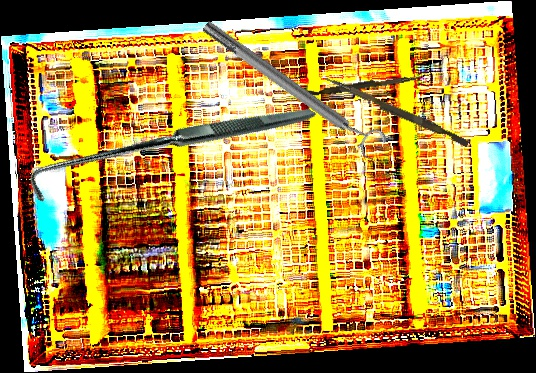Fixation Ring: (196, 10, 390, 164)
Hook Surgical: (22, 8, 318, 297)
Pusher: (322, 75, 471, 148), (301, 70, 422, 101)
